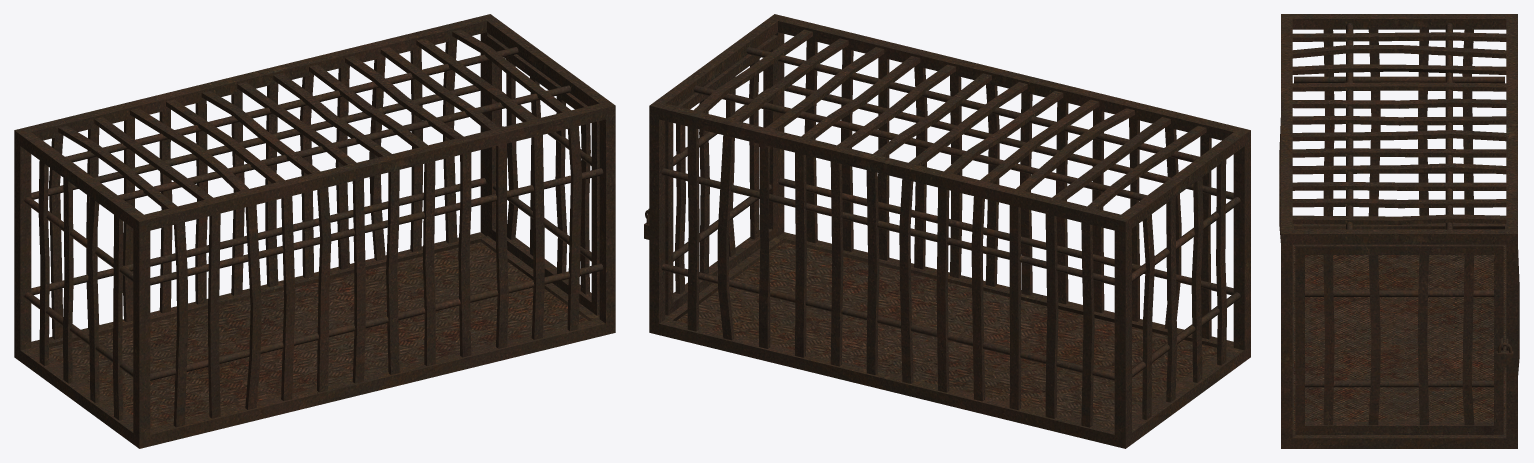
The model's file is cage_mx_1.dae.
3 views of the same model, side by side, from view 1: azimuth 30°, elevation 25°; view 2: azimuth 150°, elevation 25°; view 3: azimuth 270°, elevation 25° (orthographic). The views are drawn at different scales.
Parts seen in each view (by area): view 1: cage_mx_1, cage_mx_1_door; view 2: cage_mx_1, cage_mx_1_door; view 3: cage_mx_1, cage_mx_1_door, padlock_mx_1.
Part boxes in pixels (bbox=[...]): cage_mx_1: bbox=[14, 14, 615, 448]; cage_mx_1_door: bbox=[487, 35, 599, 315]; cage_mx_1: bbox=[645, 14, 1250, 448]; cage_mx_1_door: bbox=[648, 35, 777, 315]; cage_mx_1: bbox=[1279, 14, 1519, 448]; cage_mx_1_door: bbox=[1295, 244, 1503, 434]; padlock_mx_1: bbox=[1496, 343, 1513, 366].
Size of the model in its own units: 4.48 by 2.03 by 2.01.
2 materials, 2 textured.
